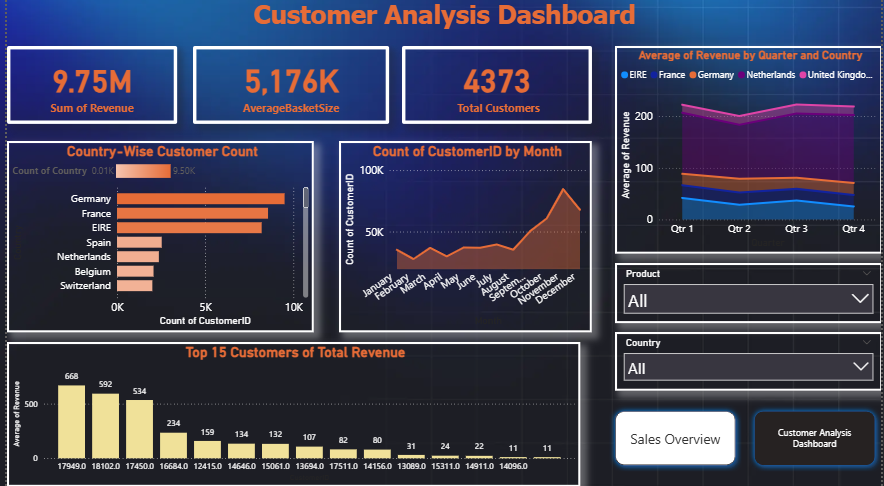

Layout of this report page (visuals, bound fields, positions):
{"tool":"powerbi","page":{"name":"Customer Analysis Dashboard","canvas":[1280,720],"ordinal":1},"visuals":[{"type":"textbox","box":[0,0,1280.5,74.6],"z":0},{"type":"card","fields":{"Values":["Sum(retail.Revenue)"]},"box":[0,74.6,248.8,114.1],"z":1000},{"type":"card","fields":{"Values":["retail.AverageBasketSize"]},"box":[272.2,74.6,286.8,114.1],"z":2000},{"type":"card","fields":{"Values":["retail.#Customer"]},"box":[578,74.6,278,114.1],"z":3000},{"type":"barChart","title":"Country-Wise Customer Count","fields":{"Category":["retail.Country"],"Y":["CountNonNull(retail.CustomerID)"]},"box":[0,213.7,449.3,279.5],"z":4000},{"type":"areaChart","fields":{"Category":["retail.InvoiceDate.Variation.Date Hierarchy.Year","retail.InvoiceDate.Variation.Date Hierarchy.Quarter","retail.InvoiceDate.Variation.Date Hierarchy.Month","retail.InvoiceDate.Variation.Date Hierarchy.Day"],"Y":["CountNonNull(retail.CustomerID)"]},"box":[485.9,213.7,370.2,279.5],"z":5000},{"type":"stackedAreaChart","fields":{"Category":["retail.InvoiceDate.Variation.Date Hierarchy.Quarter"],"Y":["Avg(retail.Revenue)"],"Series":["retail.Country"]},"box":[889.8,74.6,390.7,304.4],"z":6000},{"type":"slicer","fields":{"Values":["retail.Country"]},"box":[889.8,493.2,390.7,86.3],"z":7000},{"type":"slicer","fields":{"Values":["retail.Description"]},"box":[889.8,392.2,390.7,87.8],"z":8000},{"type":"columnChart","title":"Top 15 Customers of Total Revenue ","fields":{"Y":["Avg(retail.Revenue)"],"Category":["retail.CustomerID"]},"box":[0,507.8,838.5,212.2],"z":9000},{"type":"pageNavigator","box":[881,600,399.5,97],"z":10000}]}

Visuals, with their boxes in screenshot pixels (x1, y1, x2, y2), scaled from the page's 1280x720 canvas onto the 884x486 screenshot:
textbox: left=0, top=0, right=883, bottom=50
card - Sum(retail.Revenue): left=0, top=50, right=172, bottom=127
card - retail.AverageBasketSize: left=188, top=50, right=386, bottom=127
card - retail.#Customer: left=399, top=50, right=591, bottom=127
"Country-Wise Customer Count" barChart: left=0, top=144, right=310, bottom=333
areaChart - retail.InvoiceDate.Variation.Date Hierarchy.Year x retail.InvoiceDate.Variation.Date Hierarchy.Quarter: left=336, top=144, right=591, bottom=333
stackedAreaChart - retail.InvoiceDate.Variation.Date Hierarchy.Quarter x Avg(retail.Revenue): left=615, top=50, right=883, bottom=256
slicer - retail.Country: left=615, top=333, right=883, bottom=391
slicer - retail.Description: left=615, top=265, right=883, bottom=324
"Top 15 Customers of Total Revenue " columnChart: left=0, top=343, right=579, bottom=485
pageNavigator: left=608, top=405, right=883, bottom=470
